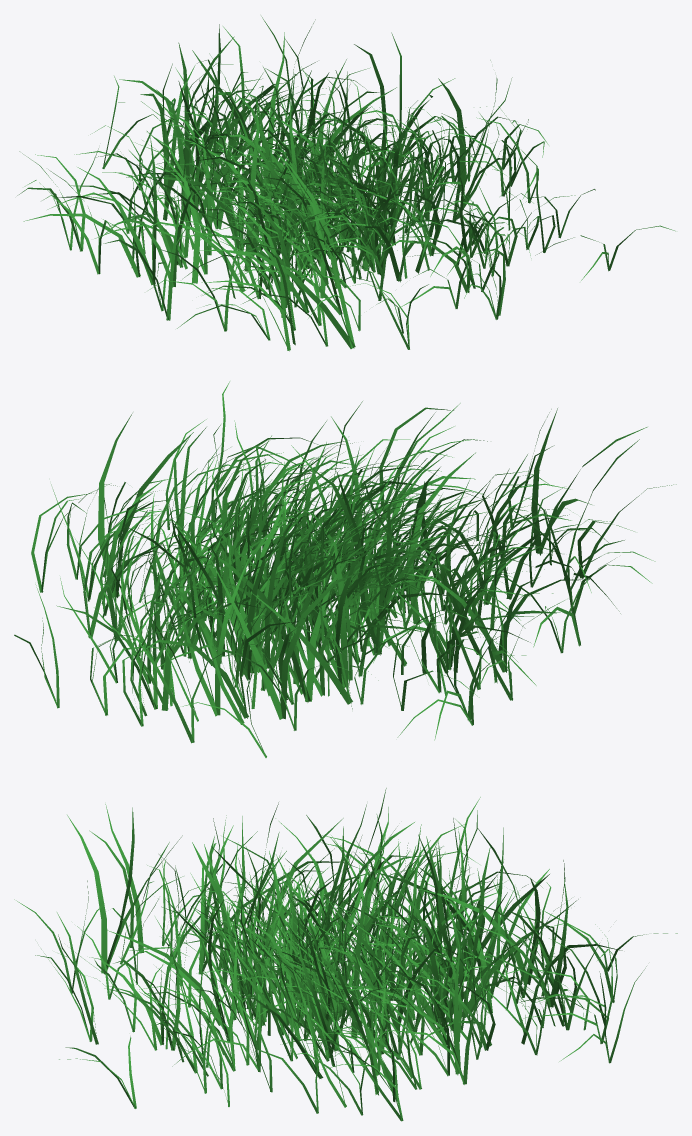
Rendered from grass.glb.
3 views of the same model, one above another, from view 1: azimuth 30°, elevation 25°; view 2: azimuth 150°, elevation 25°; view 3: azimuth 270°, elevation 25° (orthographic). The views are drawn at different scales.
Visible parts, largest first — view 1: Grass_Type_4_grassOrnament1Main6; view 2: Grass_Type_4_grassOrnament1Main6; view 3: Grass_Type_4_grassOrnament1Main6.
Boxes of the visible parts, bbox=[...] form: Grass_Type_4_grassOrnament1Main6: bbox=[17, 16, 675, 351]; Grass_Type_4_grassOrnament1Main6: bbox=[14, 381, 676, 757]; Grass_Type_4_grassOrnament1Main6: bbox=[14, 788, 677, 1121].
Size of the model in its own units: 0.1765 by 0.0567 by 0.2092.
